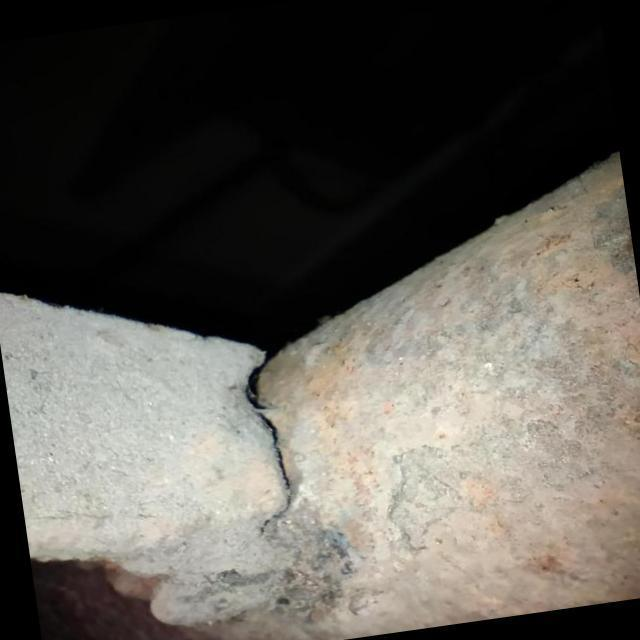defect: (242, 348, 295, 537)
